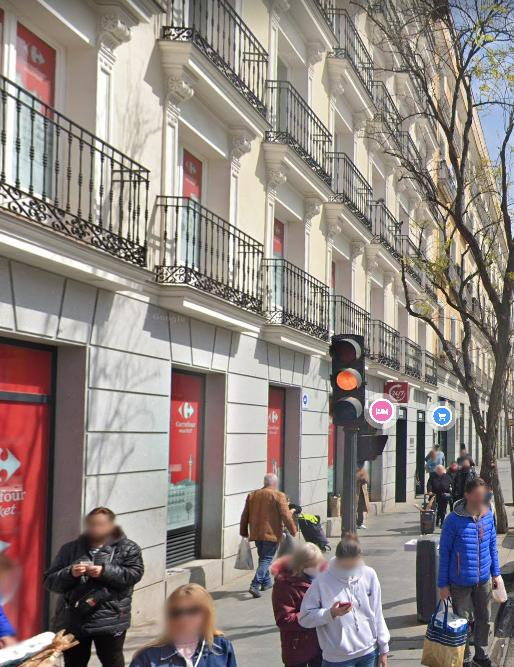yellow_light: (329, 334, 369, 426)
